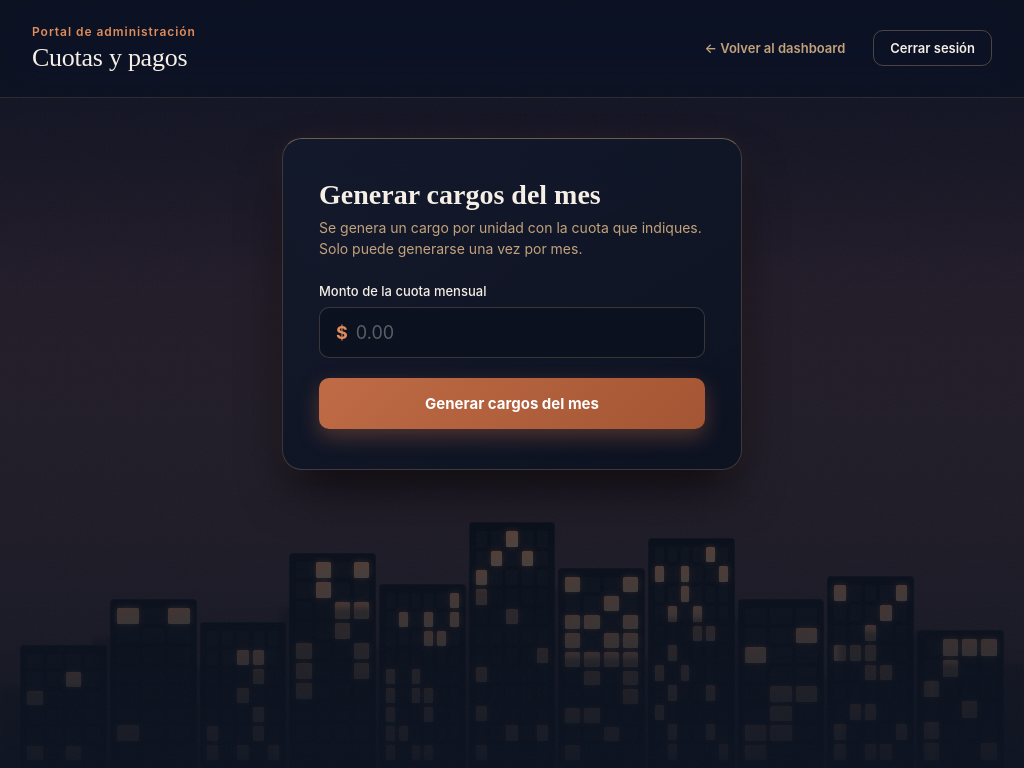
CU-06 GenerarCargosPage › avisa si no hay unidades con residente activo
The width and height of the screenshot is (1024, 768).
Type "1500" into the field labelled "Monto de la cuota mensual $" at (522, 332), box [356,308,688,357]
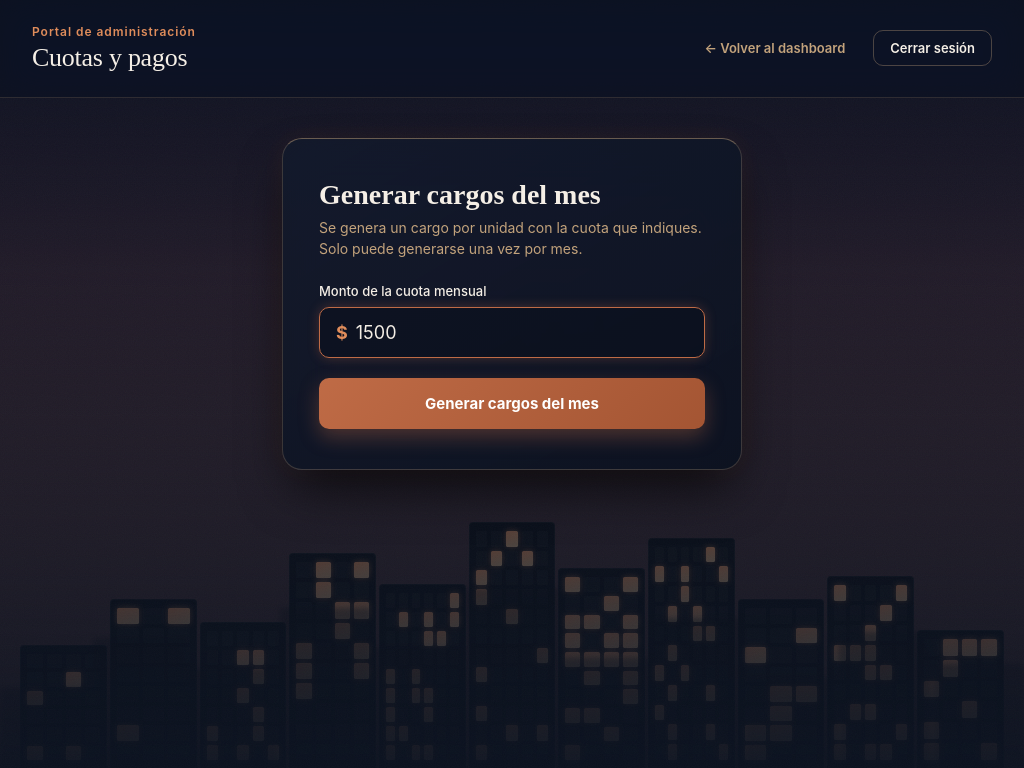
Click the button "Generar cargos del mes" at (512, 403), box [319,378,705,429]
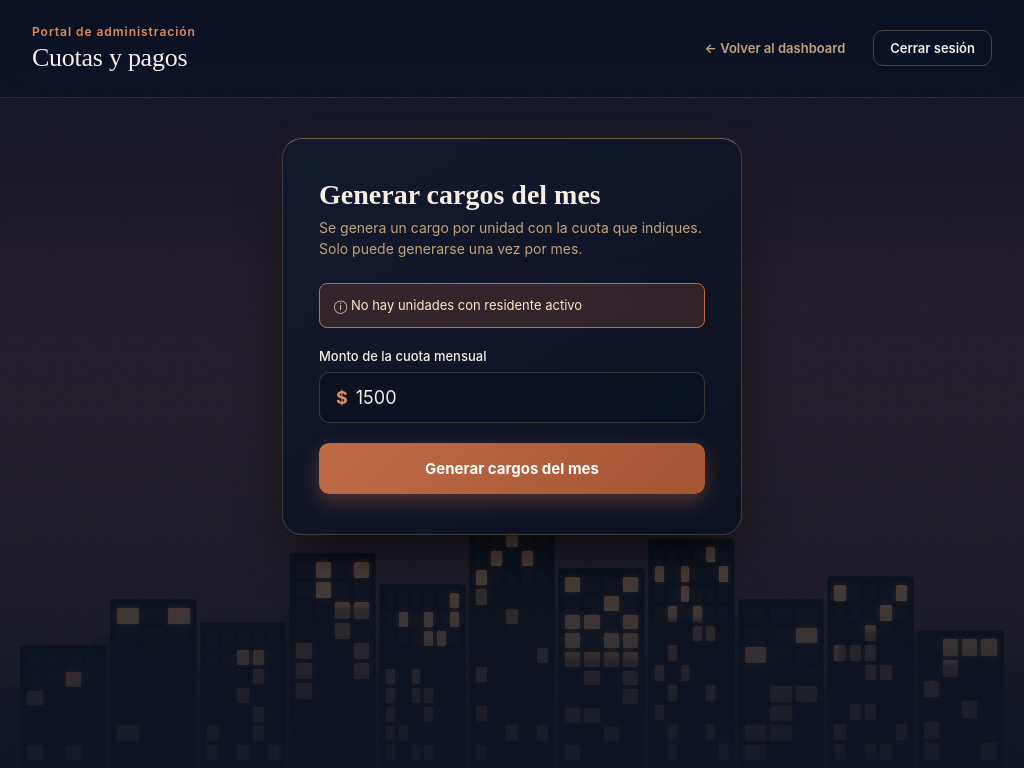
Check: the message shows "No hay unidades con residente activo", box [351,297,582,313]
